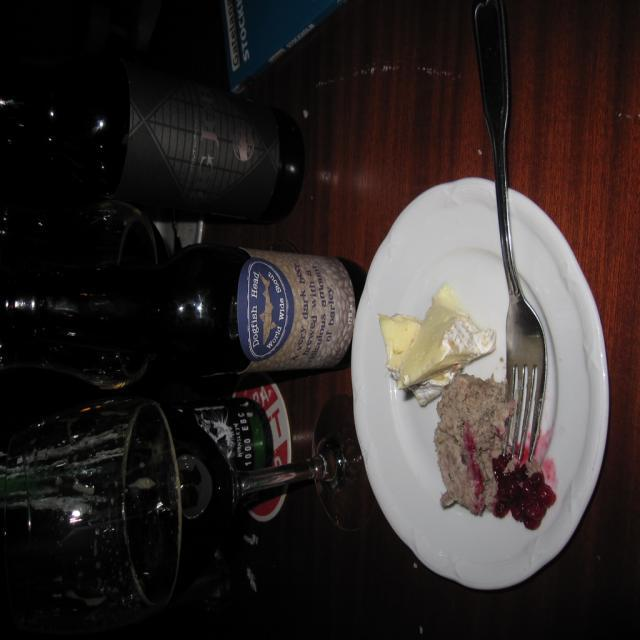Cheese: (401, 283, 495, 387), (377, 309, 461, 405)
